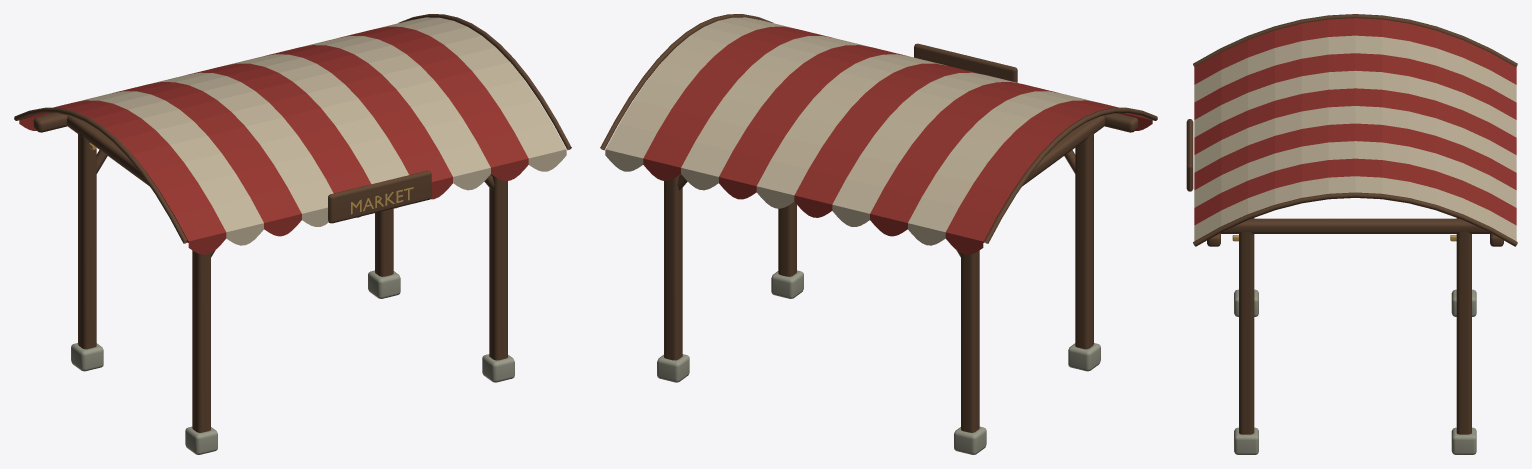
File: market.glb
The picture shows the model from 3 angles, left to right: view 1: azimuth 30°, elevation 25°; view 2: azimuth 150°, elevation 25°; view 3: azimuth 270°, elevation 25°; orthographic projection. The views are drawn at different scales.
Parts seen in each view (by area): view 1: market-exterior; view 2: market-exterior; view 3: market-exterior.
Boxes of the visible parts, <box> form: market-exterior: <box>14,14,571,454</box>; market-exterior: <box>600,14,1157,454</box>; market-exterior: <box>1186,14,1517,454</box>.
Size of the model in its own units: 3.93 by 2.82 by 3.05.
